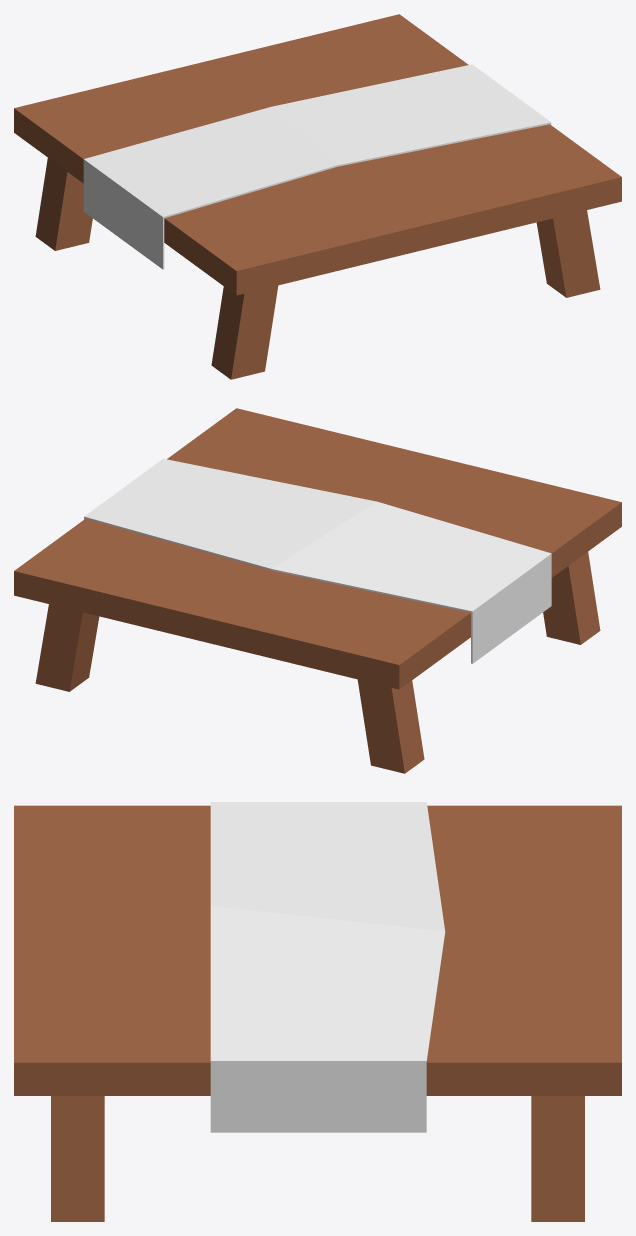
The model's file is table_cloth.glb.
3 views of the same model, one above another, from view 1: azimuth 30°, elevation 25°; view 2: azimuth 150°, elevation 25°; view 3: azimuth 270°, elevation 25° (orthographic). The views are drawn at different scales.
Parts seen in each view (by area): view 1: table_cloth; view 2: table_cloth; view 3: table_cloth.
Boxes of the visible parts, <box> form: table_cloth: <box>14,14,621,379</box>; table_cloth: <box>14,408,621,773</box>; table_cloth: <box>14,802,621,1221</box>.
Bounding box in the file's own units: 1.01 × 0.3265 × 1.
1 material, 1 textured.
